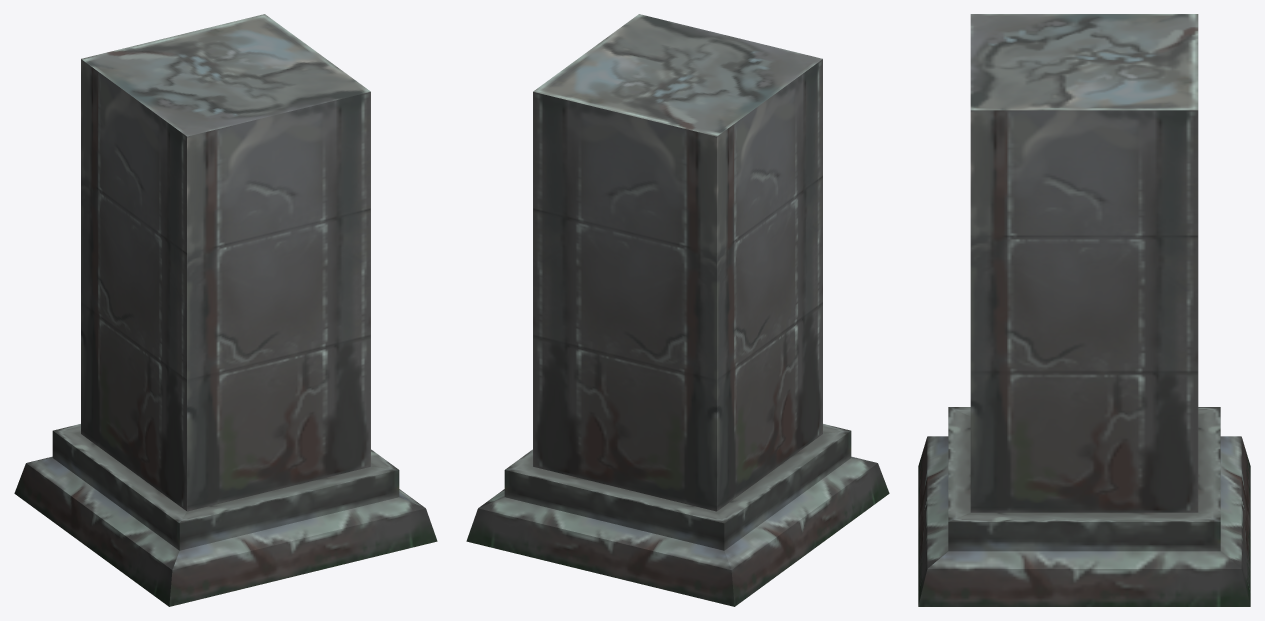
Rendered from shilianzhidi1_shizhu_001.FBX.
3 renders of one model, left to right at view 1: azimuth 30°, elevation 25°; view 2: azimuth 150°, elevation 25°; view 3: azimuth 270°, elevation 25°, orthographic. The views are drawn at different scales.
Visible parts, largest first — view 1: shilianzhidi1_shizhu1; view 2: shilianzhidi1_shizhu1; view 3: shilianzhidi1_shizhu1.
Boxes of the visible parts, x1,y1,x2,y2 form: shilianzhidi1_shizhu1: (14,14,437,606); shilianzhidi1_shizhu1: (466,14,889,606); shilianzhidi1_shizhu1: (918,14,1250,606).
Size of the model in its own units: 369 by 369 by 581.
1 material, 1 textured.
